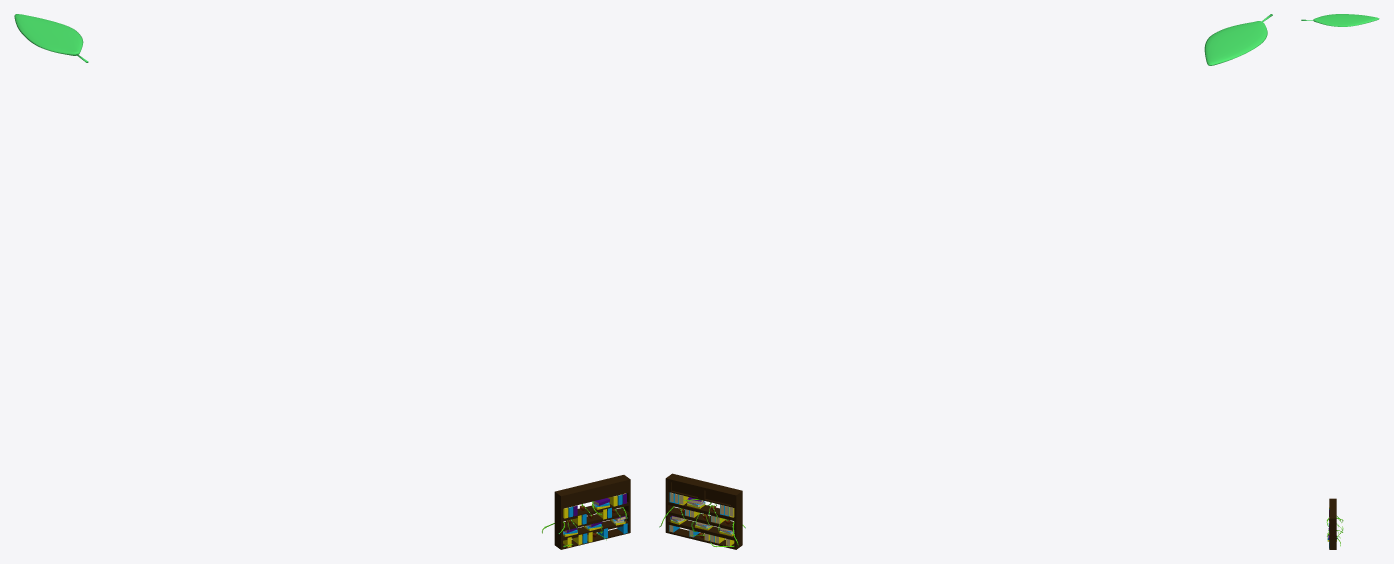
The model's file is Deco_Bookshelf.fbx.
The picture shows the model from 3 angles, left to right: view 1: azimuth 30°, elevation 25°; view 2: azimuth 150°, elevation 25°; view 3: azimuth 270°, elevation 25°; orthographic projection. The views are drawn at different scales.
Visible parts, largest first — view 1: Cube, Caule, Books.001; view 2: Cube, Caule, Books.001; view 3: Caule, Cube.
Part boxes in pixels (bbox=[...]): Cube: bbox=[554, 475, 630, 549]; Caule: bbox=[14, 14, 88, 62]; Books.001: bbox=[563, 493, 627, 547]; Cube: bbox=[665, 473, 742, 549]; Caule: bbox=[1204, 14, 1272, 65]; Books.001: bbox=[669, 492, 734, 546]; Caule: bbox=[1301, 14, 1379, 26]; Cube: bbox=[1329, 498, 1336, 549].
Size of the model in its own units: 3222 by 629 by 3267.
